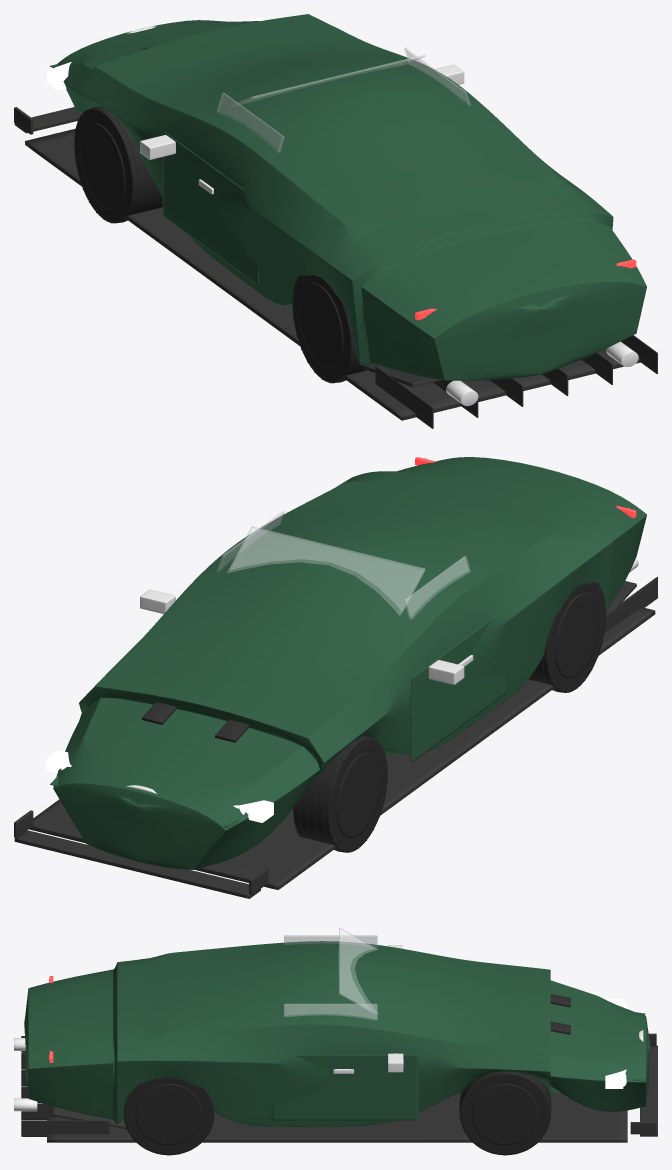
The model's file is vehicle.opt.glb.
The picture shows the model from 3 angles, top to bottom: view 1: azimuth 30°, elevation 25°; view 2: azimuth 150°, elevation 25°; view 3: azimuth 270°, elevation 25°; orthographic projection. The views are drawn at different scales.
Visible parts, largest first — view 1: BODY_MainShell, UNDERBODY_FlatFloor, WHEEL_FL_Tire, BODY_Door_FL, WHEEL_RL_Tire, GLASS_Greenhouse, JEWELRY_Hardware, JEWELRY_Jaguar_DualExhaust, AERO_FrontSplitter; view 2: BODY_MainShell, UNDERBODY_FlatFloor, GLASS_Greenhouse, WHEEL_FL_Tire, BODY_Door_FL, WHEEL_RL_Tire, AERO_FrontSplitter, JEWELRY_Hardware, LIGHTING_Headlamps, AERO_Jaguar_HoodLouvers; view 3: BODY_MainShell, UNDERBODY_FlatFloor, BODY_Door_FR, WHEEL_FR_Tire, WHEEL_RR_Tire, GLASS_Greenhouse, AERO_FrontSplitter, LIGHTING_Headlamps, JEWELRY_Hardware, JEWELRY_Jaguar_DualExhaust, AERO_Jaguar_HoodLouvers.
Boxes of the visible parts, x1=… form: BODY_MainShell: x1=57, y1=14, x2=646, y2=380; UNDERBODY_FlatFloor: x1=25, y1=128, x2=657, y2=428; WHEEL_FL_Tire: x1=73, y1=106, x2=162, y2=223; BODY_Door_FL: x1=162, y1=130, x2=258, y2=285; WHEEL_RL_Tire: x1=292, y1=273, x2=367, y2=383; GLASS_Greenhouse: x1=217, y1=48, x2=470, y2=152; JEWELRY_Hardware: x1=140, y1=64, x2=464, y2=194; JEWELRY_Jaguar_DualExhaust: x1=446, y1=341, x2=638, y2=406; AERO_FrontSplitter: x1=14, y1=107, x2=79, y2=134; BODY_MainShell: x1=53, y1=457, x2=646, y2=869; UNDERBODY_FlatFloor: x1=29, y1=577, x2=657, y2=889; GLASS_Greenhouse: x1=217, y1=511, x2=470, y2=619; WHEEL_FL_Tire: x1=293, y1=736, x2=387, y2=852; BODY_Door_FL: x1=411, y1=617, x2=507, y2=762; WHEEL_RL_Tire: x1=529, y1=582, x2=606, y2=692; AERO_FrontSplitter: x1=14, y1=810, x2=268, y2=898; JEWELRY_Hardware: x1=140, y1=589, x2=473, y2=684; LIGHTING_Headlamps: x1=46, y1=750, x2=273, y2=822; AERO_Jaguar_HoodLouvers: x1=142, y1=702, x2=249, y2=742; BODY_MainShell: x1=24, y1=941, x2=650, y2=1126; UNDERBODY_FlatFloor: x1=21, y1=1036, x2=627, y2=1142; BODY_Door_FR: x1=271, y1=1054, x2=418, y2=1120; WHEEL_FR_Tire: x1=459, y1=1071, x2=551, y2=1155; WHEEL_RR_Tire: x1=123, y1=1077, x2=214, y2=1155; GLASS_Greenhouse: x1=284, y1=928, x2=377, y2=1020; AERO_FrontSplitter: x1=630, y1=1033, x2=657, y2=1136; LIGHTING_Headlamps: x1=605, y1=998, x2=626, y2=1088; JEWELRY_Hardware: x1=333, y1=945, x2=403, y2=1073; JEWELRY_Jaguar_DualExhaust: x1=14, y1=1038, x2=37, y2=1111; AERO_Jaguar_HoodLouvers: x1=550, y1=994, x2=570, y2=1034.
Size of what is drawn, in the model's own units: 2.16 by 1.26 by 4.96.
